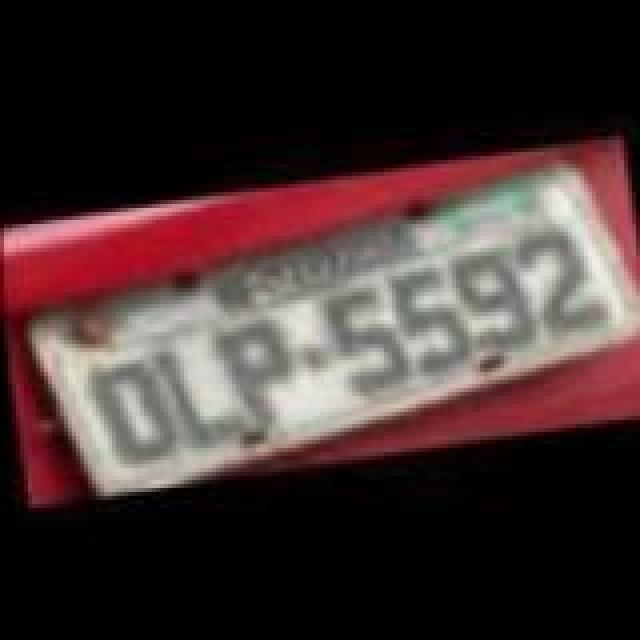2: (508, 214, 612, 338)
5: (314, 278, 410, 402), (382, 260, 470, 384)
9: (444, 234, 536, 358)
L: (150, 332, 250, 456)
O: (76, 346, 180, 466)
P: (208, 310, 304, 434)
